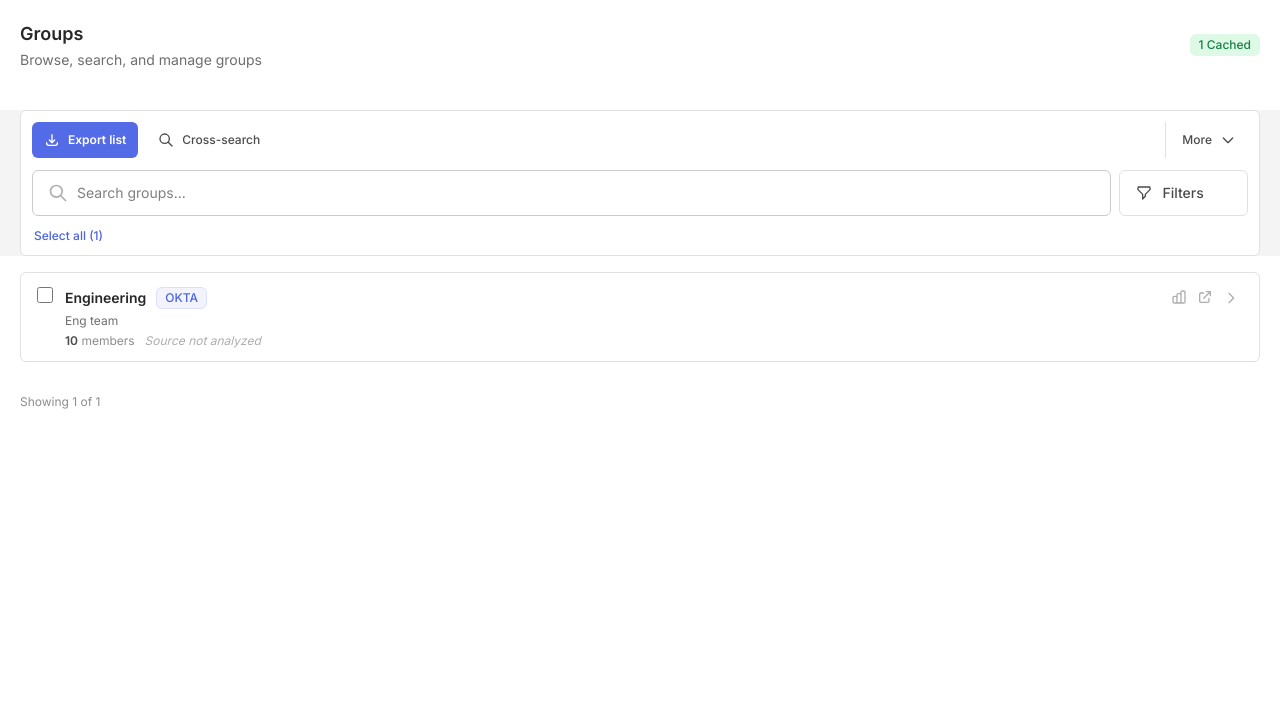
Test: GroupsTab sub-navigation › renders a breadcrumb trail back to the list
The width and height of the screenshot is (1280, 720).
Click the button named "Expand Engineering". click: (1231, 298)
box: [1219,286,1243,310]
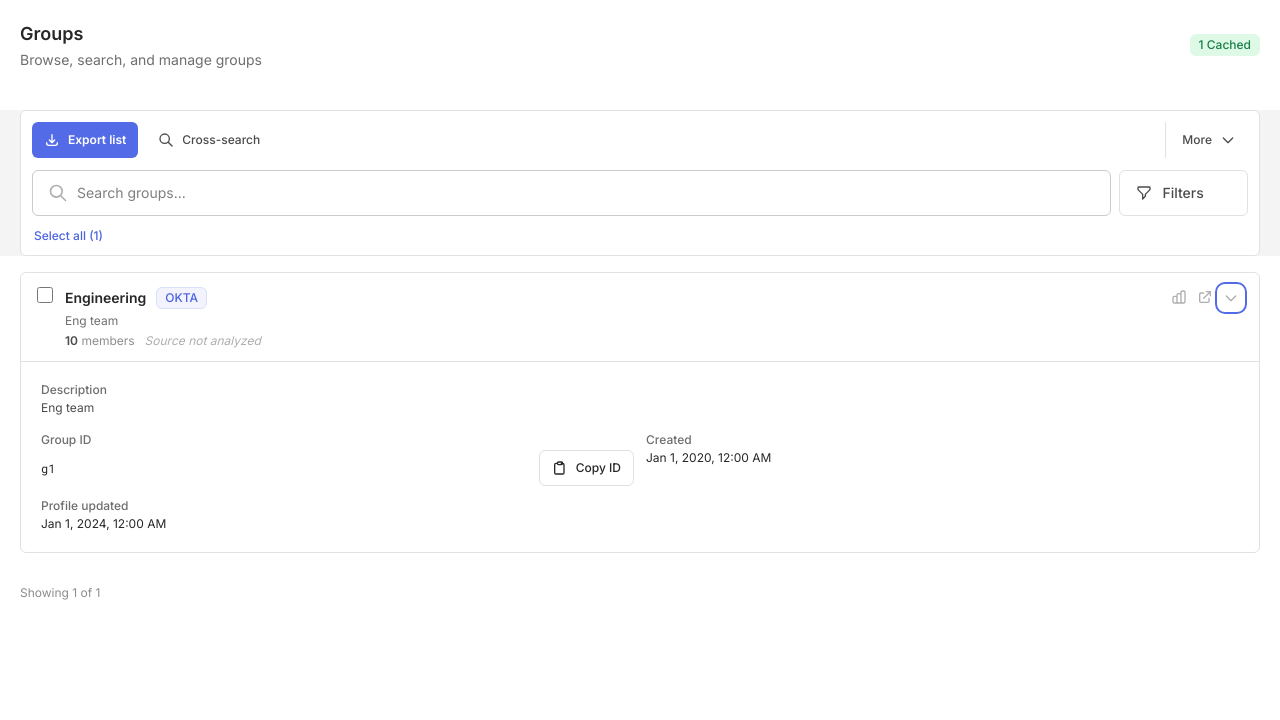
Click the button named "View group details". click: (640, 317)
box: [21,273,1259,361]
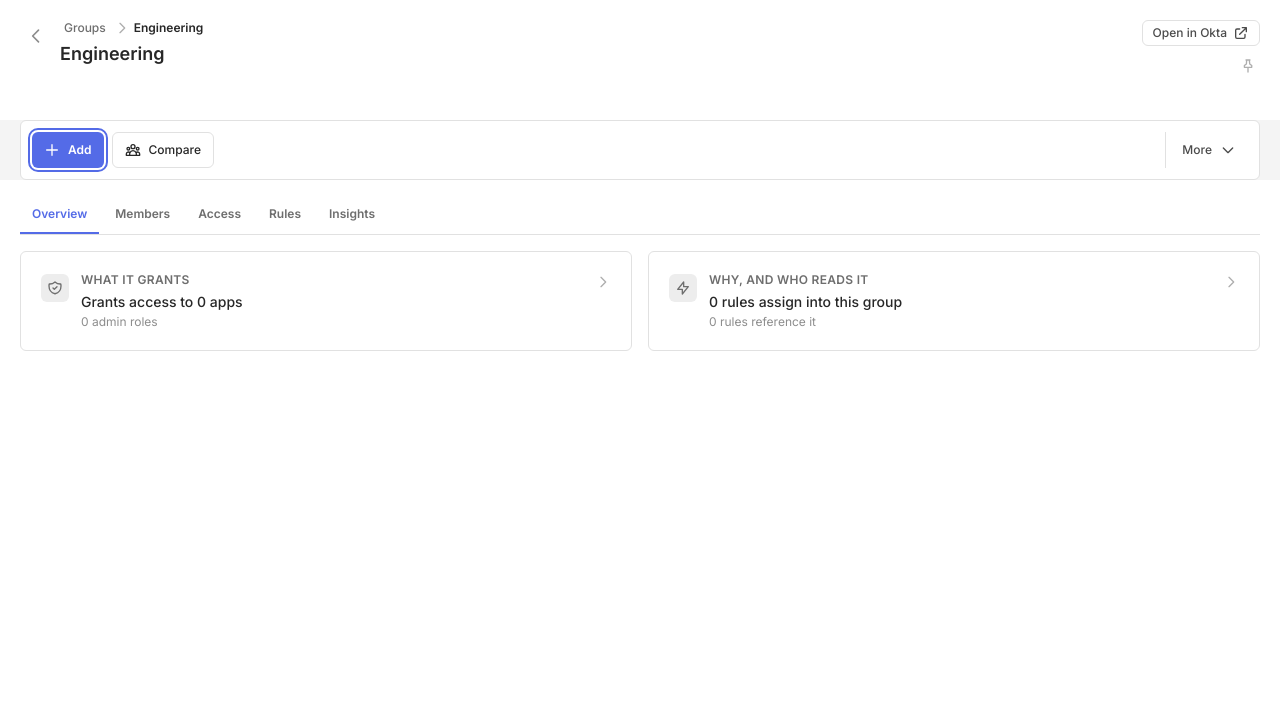
Click the button "Groups". click: (85, 28)
box: [60,20,110,36]
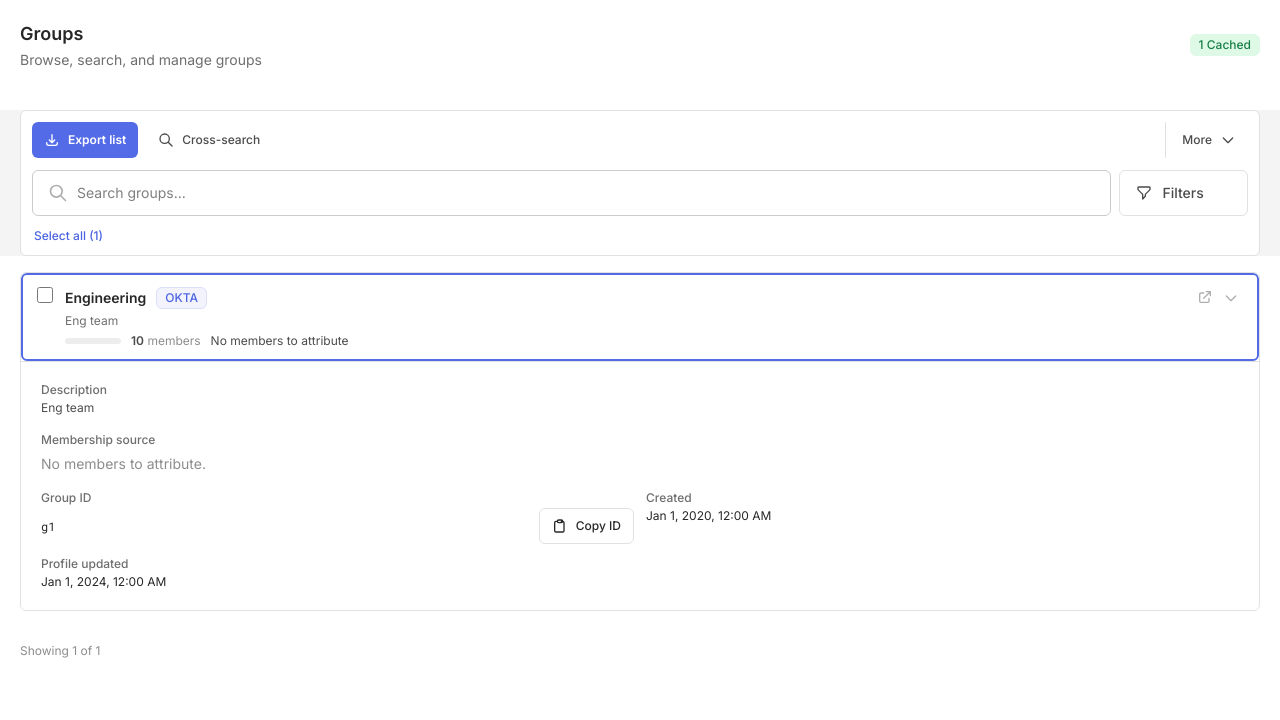
Expected: the element with test id "group-detail-view" is gone
